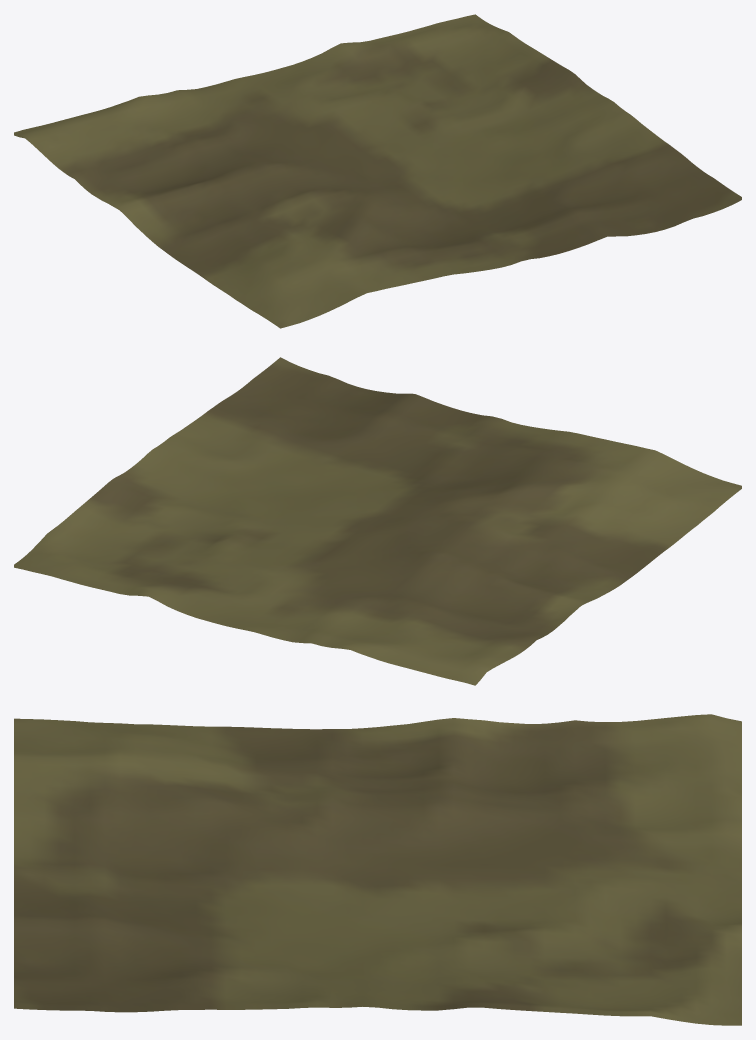
File: land_m_13_11.glb
3 views of the same model, one above another, from view 1: azimuth 30°, elevation 25°; view 2: azimuth 150°, elevation 25°; view 3: azimuth 270°, elevation 25° (orthographic). The views are drawn at different scales.
Visible parts, largest first — view 1: land_m_13_11; view 2: land_m_13_11; view 3: land_m_13_11.
Part boxes in pixels (x1=…): land_m_13_11: x1=14, y1=14, x2=741, y2=328; land_m_13_11: x1=14, y1=357, x2=741, y2=685; land_m_13_11: x1=14, y1=714, x2=741, y2=1025.
Bounding box in the file's own units: 960 × 55.72 × 960.
